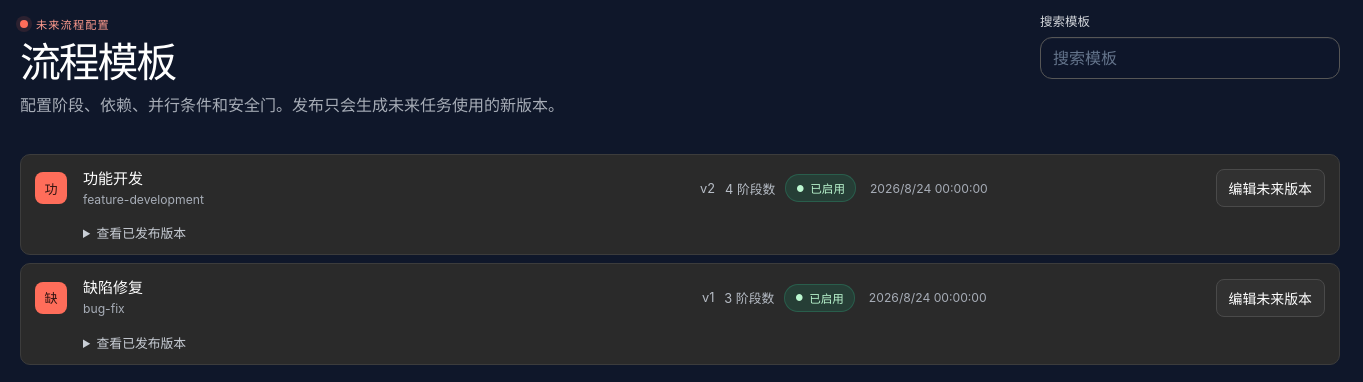
filters workflow templates by name, slug, and task type
Check: the link "功能开发" is shown, box [83, 169, 143, 188]
Check: the element with class "workflow-list" is shown, box [20, 154, 1340, 365]
In the search field labelled "搜索模板": (1190, 58) [1040, 37, 1340, 79], type "bug"
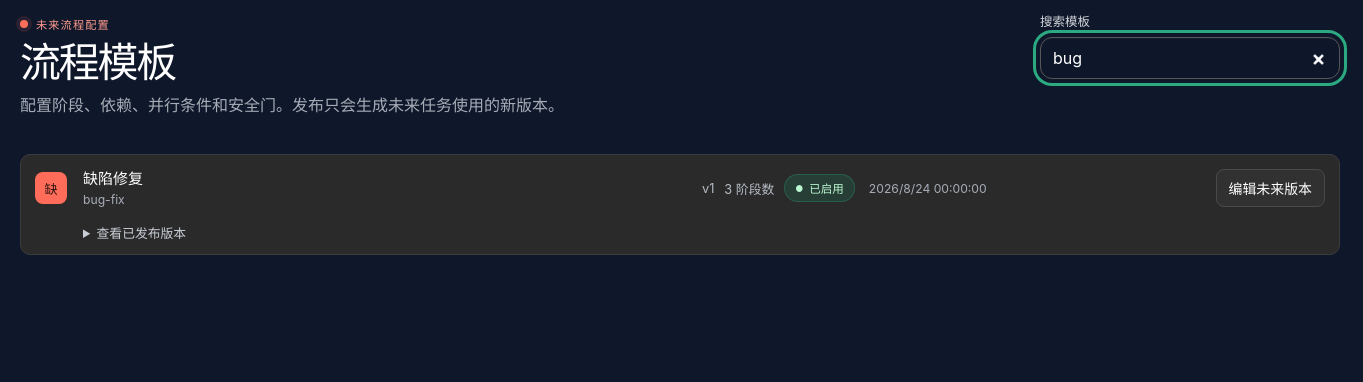
Check: the link "缺陷修复" is shown, box [83, 169, 143, 188]
Check: the link "功能开发" is gone
